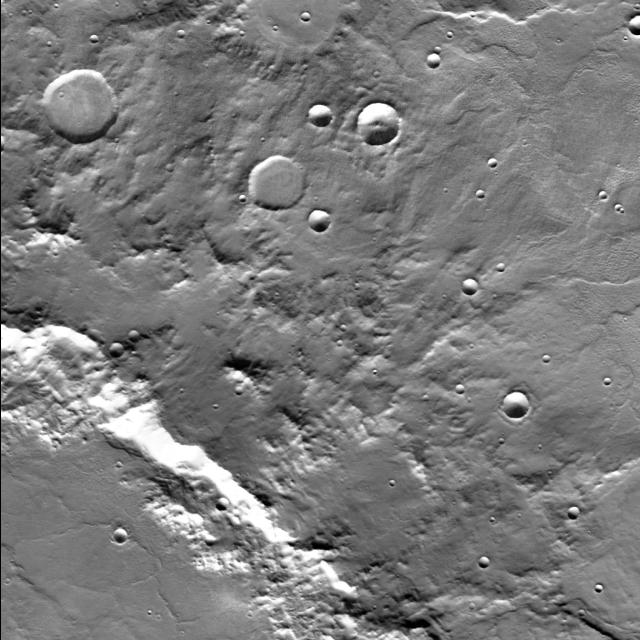crater: (1, 331, 404, 639), (222, 0, 360, 64), (45, 70, 120, 145), (250, 156, 307, 212), (356, 103, 398, 145), (504, 393, 530, 419), (308, 103, 332, 127), (308, 211, 330, 233), (626, 14, 640, 36), (462, 278, 478, 294), (110, 342, 124, 357), (114, 530, 128, 544), (425, 54, 439, 68), (215, 498, 228, 512), (568, 507, 580, 519), (129, 332, 141, 344), (478, 558, 488, 568), (496, 264, 506, 274), (474, 190, 484, 200), (487, 158, 497, 168), (299, 12, 309, 22), (597, 189, 607, 199), (454, 384, 464, 394), (280, 558, 290, 568), (235, 380, 244, 389), (164, 165, 172, 173), (594, 584, 602, 592), (92, 28, 100, 36), (175, 28, 183, 36), (372, 70, 380, 78), (432, 46, 440, 54), (542, 356, 550, 364), (602, 377, 610, 385), (466, 602, 474, 610), (238, 195, 245, 202), (578, 609, 585, 616), (614, 204, 620, 212), (446, 31, 452, 38), (335, 324, 341, 330), (389, 481, 395, 486)
